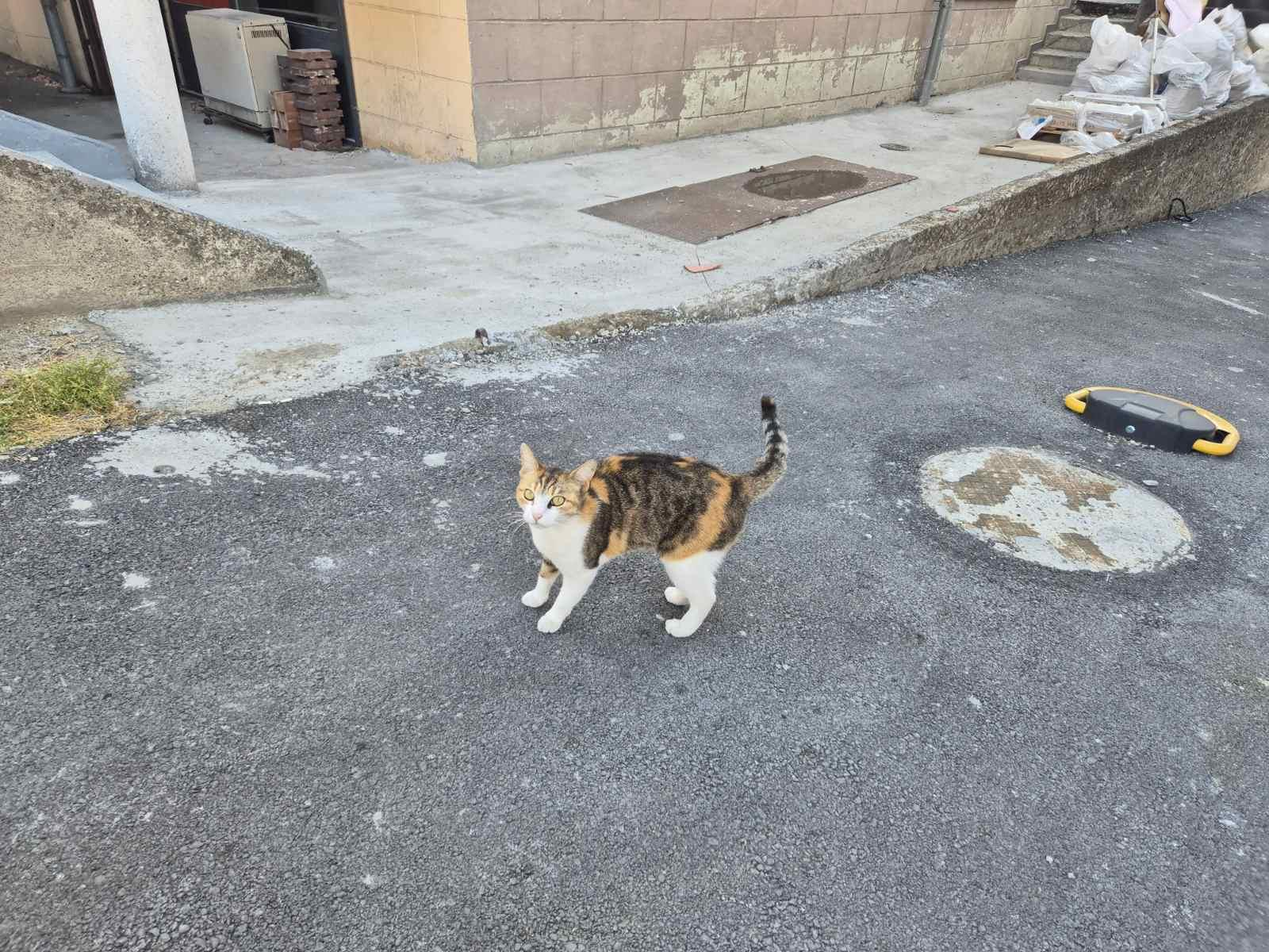macka: (515, 395, 789, 638)
